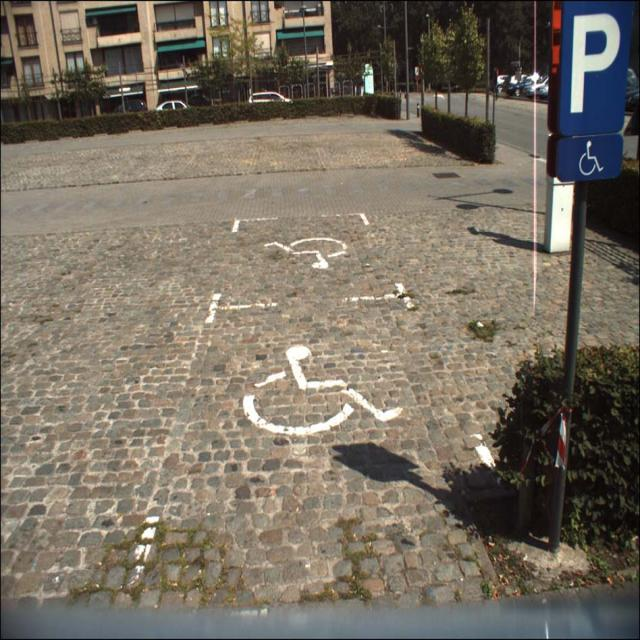park: (560, 3, 627, 133)
